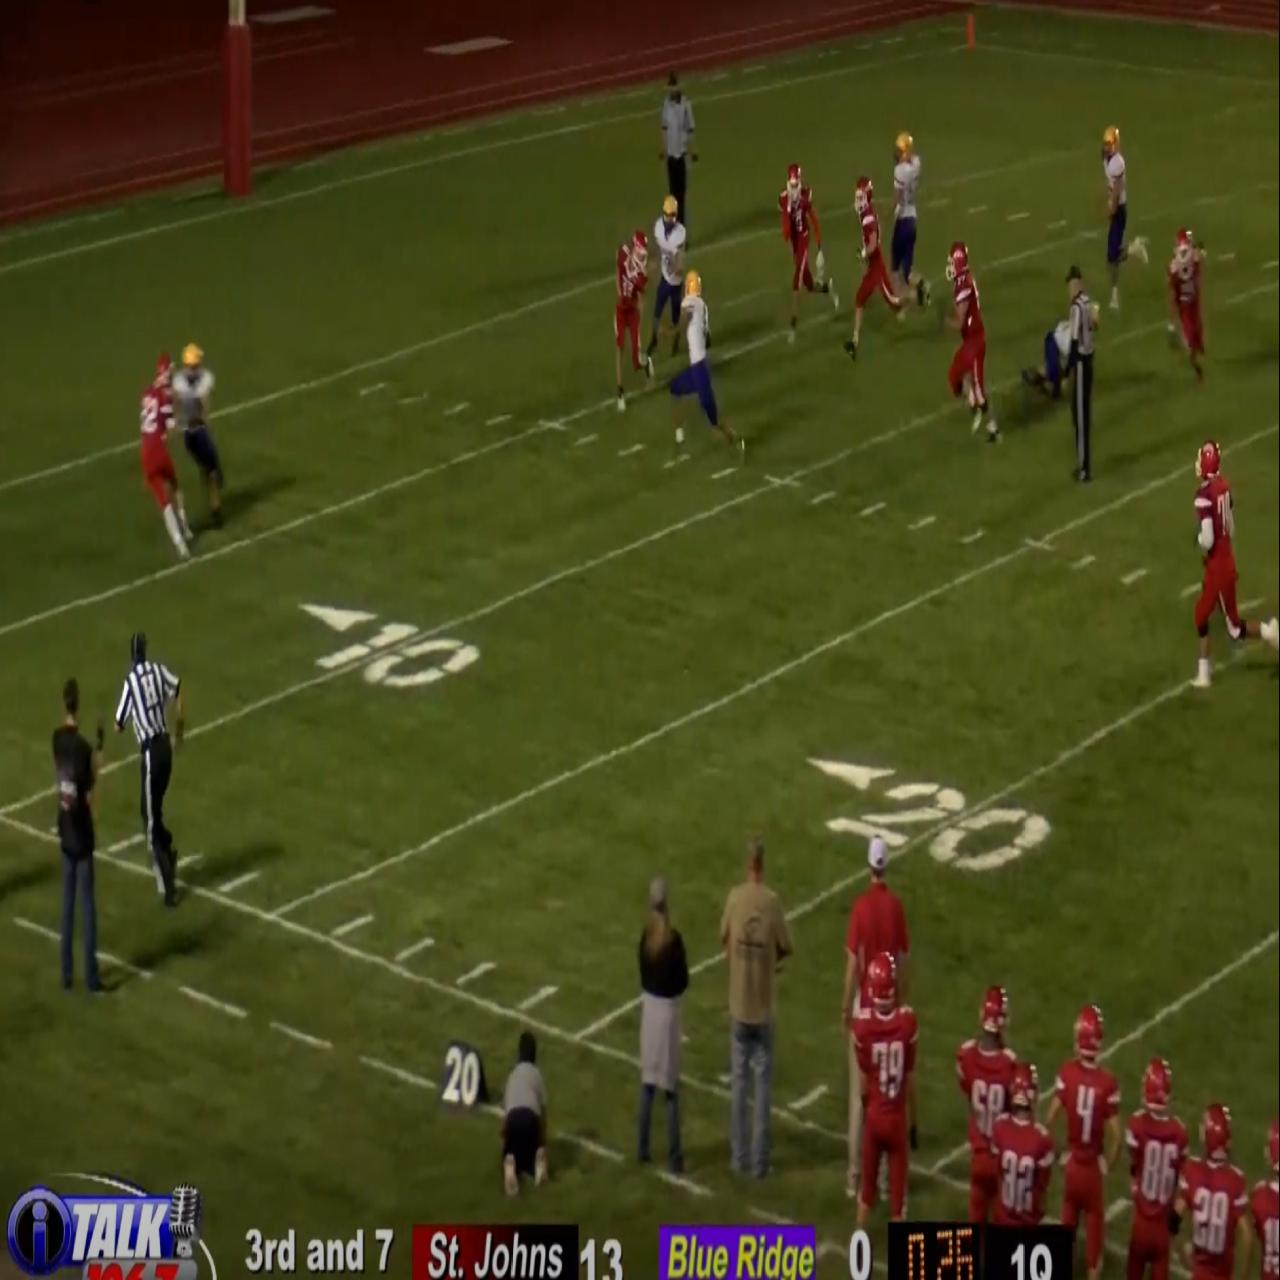10L: (297, 601, 479, 694)
20L: (805, 756, 1053, 871)
